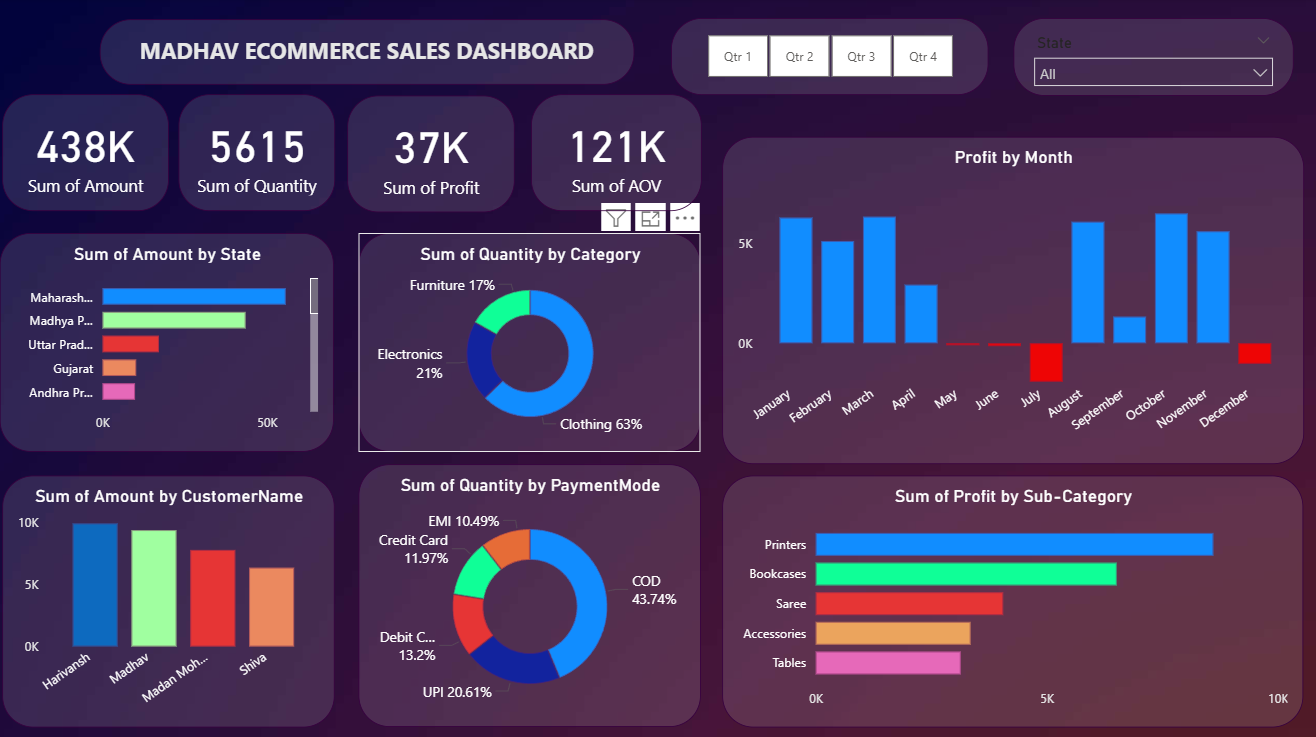

What the dashboard file says about the page in this screenshot:
{"tool":"powerbi","page":{"name":"Page 1","canvas":[1280,720],"ordinal":0},"visuals":[{"type":"donutChart","fields":{"Category":["Details.Category"],"Y":["Sum(Details.Quantity)"]},"box":[349.9,226.4,330.7,211.3],"z":0},{"type":"donutChart","fields":{"Category":["Details.PaymentMode"],"Y":["Sum(Details.Quantity)"]},"box":[349.9,450,330.6,253.4],"z":1000},{"type":"card","fields":{"Values":["Sum(Details.Amount)"]},"box":[5.5,93.3,160.5,112.5],"z":2000},{"type":"card","fields":{"Values":["Sum(Details.Quantity)"]},"box":[175.6,93.3,150.9,112.5],"z":3000},{"type":"card","fields":{"Values":["Sum(Details.Profit)"]},"box":[338.9,94.7,161.9,112.5],"z":4000},{"type":"card","fields":{"Values":["Sum(Details.AOV)"]},"box":[516,93.3,164.7,112.5],"z":5000},{"type":"barChart","fields":{"Category":["Orders.State"],"Y":["Sum(Details.Amount)"]},"box":[4.1,226.4,322.5,211.3],"z":6000},{"type":"columnChart","fields":{"Category":["Orders.CustomerName"],"Y":["Sum(Details.Amount)"]},"box":[5.5,461.1,321.1,242.9],"z":7000},{"type":"textbox","box":[100.2,20.6,516,63.1],"z":8000},{"type":"columnChart","title":" Profit by Month","fields":{"Category":["Orders.Order Date.Variation.Date Hierarchy.Month"],"Y":["Sum(Details.Profit)"]},"box":[701.2,134.5,561.2,315.6],"z":9000},{"type":"clusteredBarChart","fields":{"Category":["Details.Sub-Category"],"Y":["Sum(Details.Profit)"]},"box":[701,461,561,243],"z":10000},{"type":"slicer","fields":{"Values":["Orders.Order Date.Variation.Date Hierarchy.Quarter"]},"box":[651.8,19.2,306,74.1],"z":11000},{"type":"slicer","fields":{"Values":["Orders.State"]},"box":[982.5,19.2,270.3,75],"z":12000}]}

Visuals, with their boxes in screenshot pixels (x1, y1, x2, y2), scaled from the page's 1280x720 canvas onto the 1316x737 screenshot:
donutChart - Details.Category x Sum(Details.Quantity): {"x1": 360, "y1": 232, "x2": 700, "y2": 448}
donutChart - Details.PaymentMode x Sum(Details.Quantity): {"x1": 360, "y1": 461, "x2": 700, "y2": 720}
card - Sum(Details.Amount): {"x1": 6, "y1": 96, "x2": 171, "y2": 211}
card - Sum(Details.Quantity): {"x1": 181, "y1": 96, "x2": 336, "y2": 211}
card - Sum(Details.Profit): {"x1": 348, "y1": 97, "x2": 515, "y2": 212}
card - Sum(Details.AOV): {"x1": 531, "y1": 96, "x2": 700, "y2": 211}
barChart - Orders.State x Sum(Details.Amount): {"x1": 4, "y1": 232, "x2": 336, "y2": 448}
columnChart - Orders.CustomerName x Sum(Details.Amount): {"x1": 6, "y1": 472, "x2": 336, "y2": 721}
textbox: {"x1": 103, "y1": 21, "x2": 634, "y2": 86}
" Profit by Month" columnChart: {"x1": 721, "y1": 138, "x2": 1298, "y2": 461}
clusteredBarChart - Details.Sub-Category x Sum(Details.Profit): {"x1": 721, "y1": 472, "x2": 1297, "y2": 721}
slicer - Orders.Order Date.Variation.Date Hierarchy.Quarter: {"x1": 670, "y1": 20, "x2": 985, "y2": 96}
slicer - Orders.State: {"x1": 1010, "y1": 20, "x2": 1288, "y2": 96}
